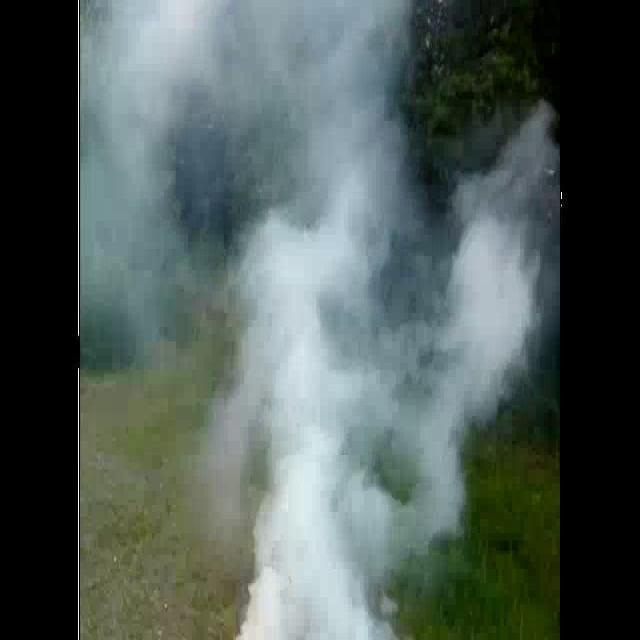Smoke: (80, 0, 561, 640)
